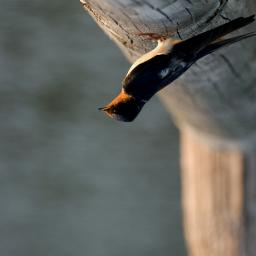Swallow: (92, 13, 256, 128)
